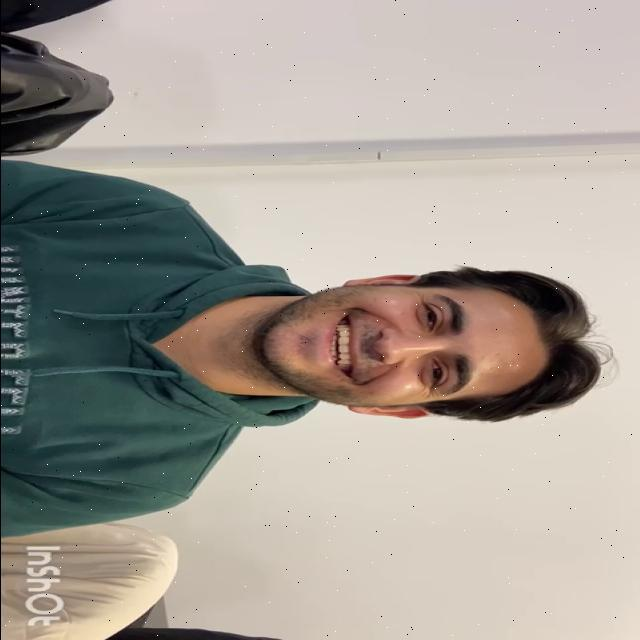happy: (255, 284, 547, 406)
